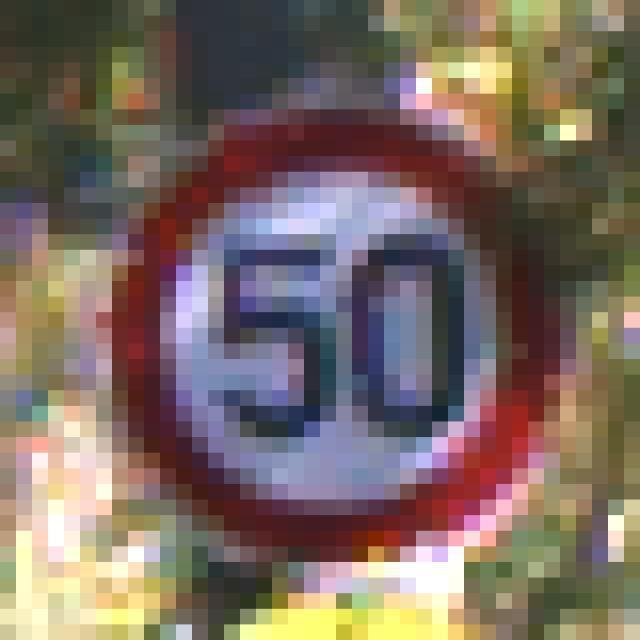Ograniczenie predkosci do 50: (116, 119, 549, 565)
